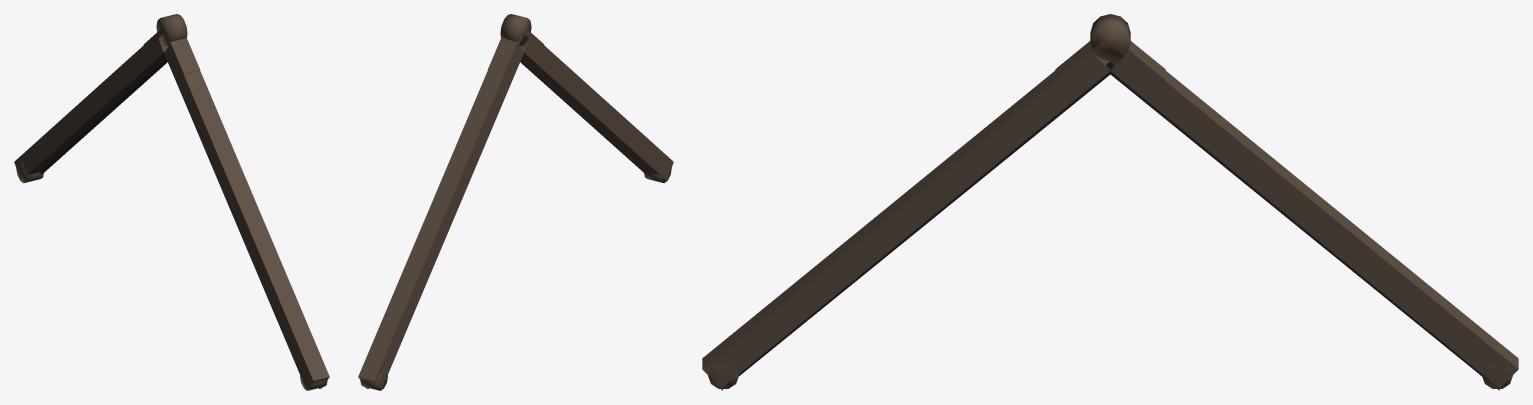
The model's file is kit_timber_thatch_w6_end.glb.
3 views of the same model, side by side, from view 1: azimuth 30°, elevation 25°; view 2: azimuth 150°, elevation 25°; view 3: azimuth 270°, elevation 25° (orthographic). The views are drawn at different scales.
Visible parts, largest first — view 1: kit_timber_thatch_w6_end; view 2: kit_timber_thatch_w6_end; view 3: kit_timber_thatch_w6_end.
Part boxes in pixels (box(x1,y1,x2,y2)): kit_timber_thatch_w6_end: box(14, 14, 329, 390); kit_timber_thatch_w6_end: box(358, 14, 673, 390); kit_timber_thatch_w6_end: box(702, 14, 1518, 390).
Bounding box in the file's own units: 0.22 × 3.43 × 6.92.
